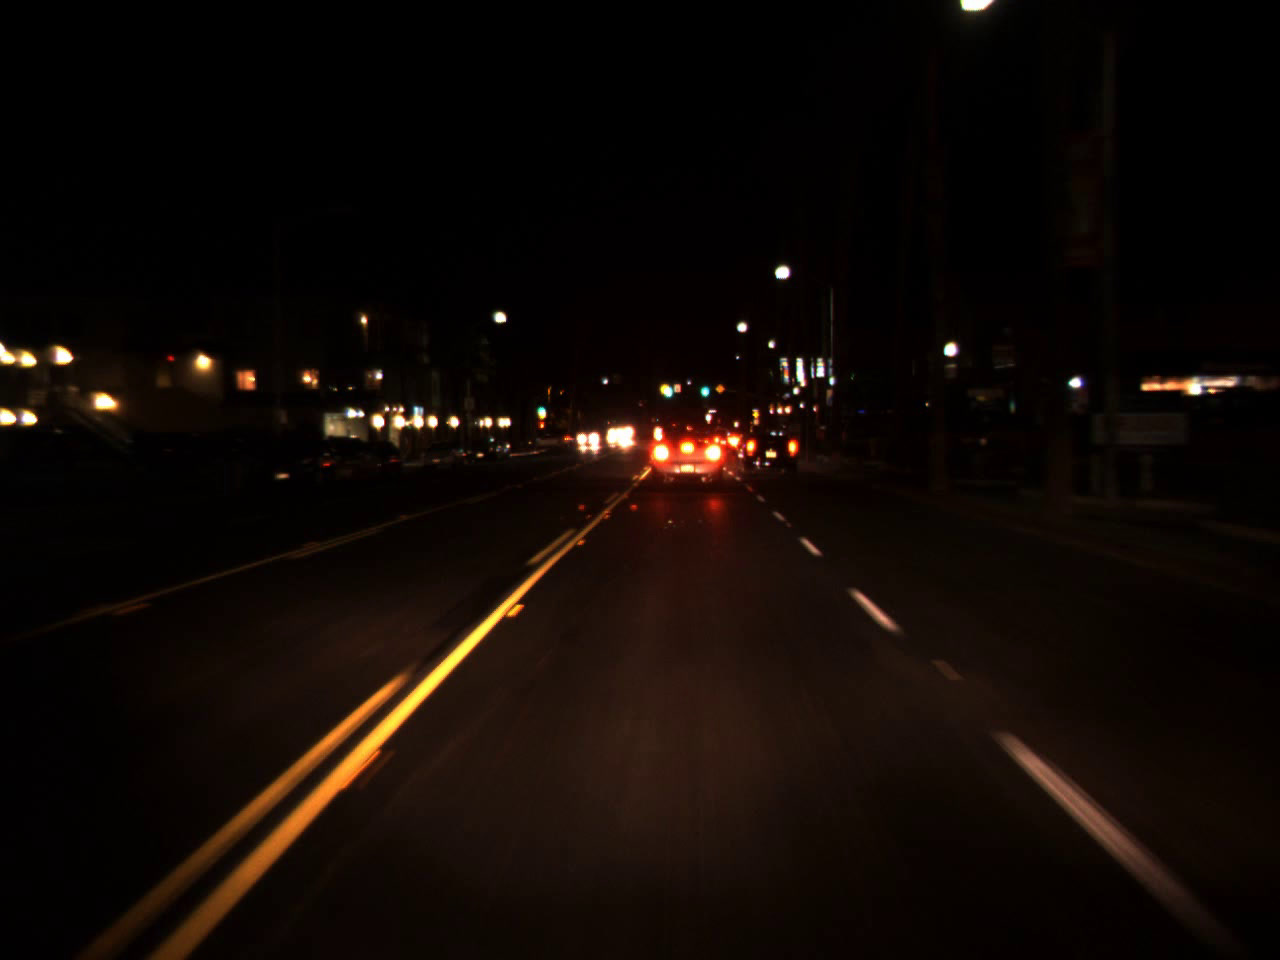go: (698, 376, 710, 400), (660, 381, 672, 402), (535, 398, 544, 413)
